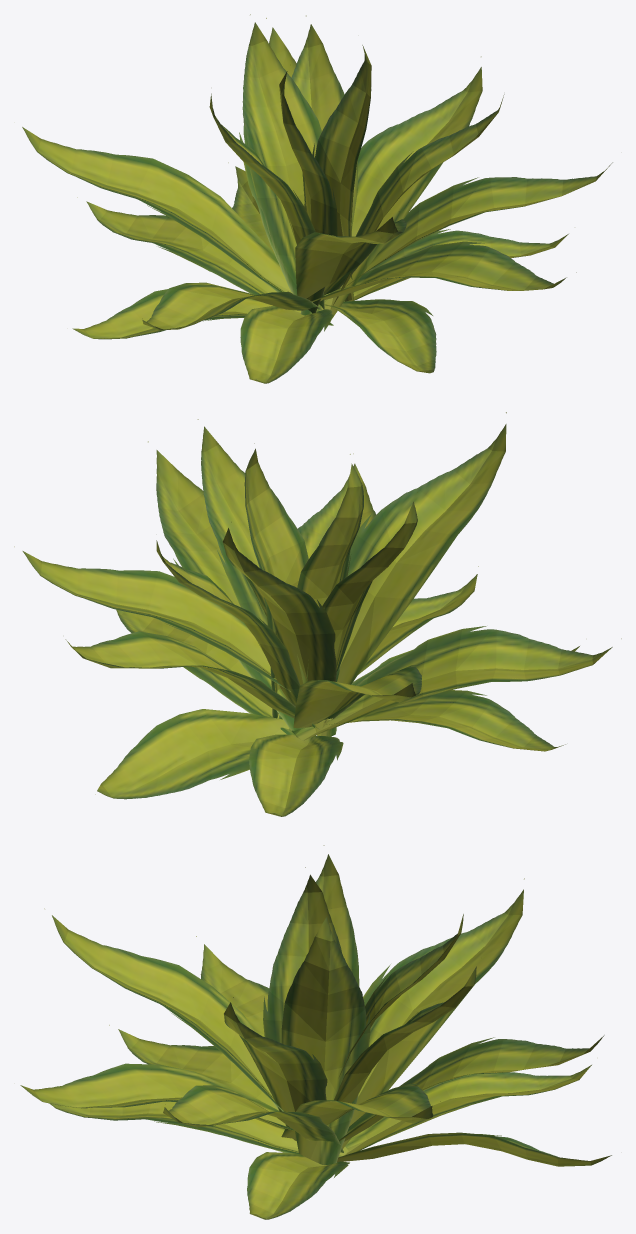
Rendered from weed.dae.
The picture shows the model from 3 angles, top to bottom: view 1: azimuth 30°, elevation 25°; view 2: azimuth 150°, elevation 25°; view 3: azimuth 270°, elevation 25°; orthographic projection. The views are drawn at different scales.
Parts seen in each view (by area): view 1: Component_3 (×19); view 2: Component_3 (×18); view 3: Component_3 (×18).
Part boxes in pixels (left/top/right/bottom): Component_3 (×19): left=22, top=14, right=612, bottom=383; Component_3 (×18): left=14, top=412, right=621, bottom=816; Component_3 (×18): left=20, top=845, right=611, bottom=1219.
Size of the model in its own units: 69.54 by 74 by 37.95.
1 material, 1 textured.
